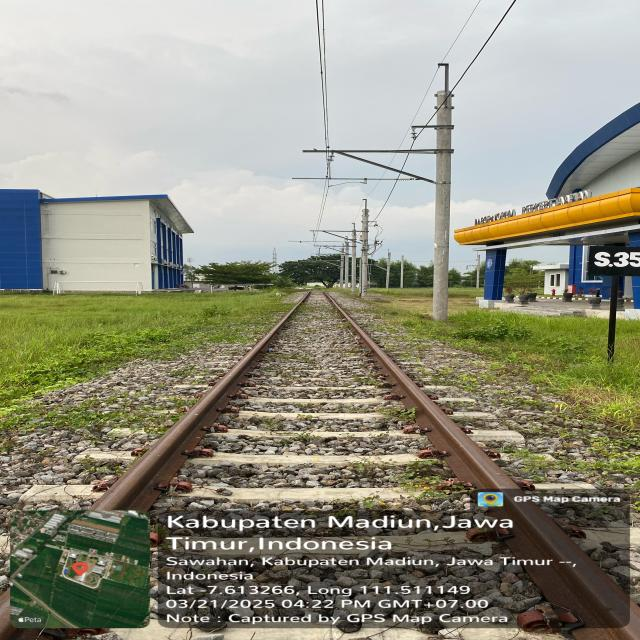rail-detection: (91, 292, 310, 510), (326, 293, 516, 490), (582, 598, 633, 627)
